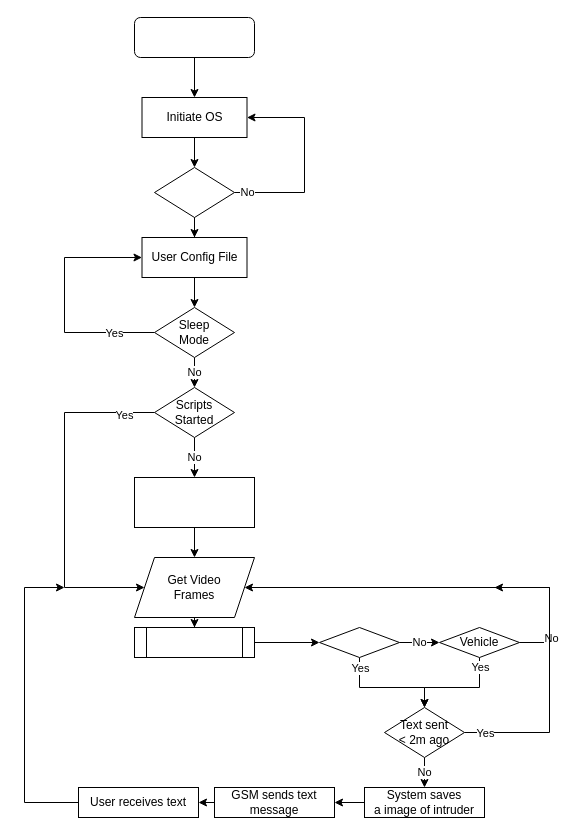
This 575x835 diagram has some shape labels left out. Each missing label, with the centre of its shape:
"Analyze frames" belongs at (194,642).
"Person" belongs at (359,642).
"Script for Tensor Flow / GSM / G. Coral start" belongs at (194,502).
"Start." belongs at (194,37).
"System Ready" belongs at (194,192).
